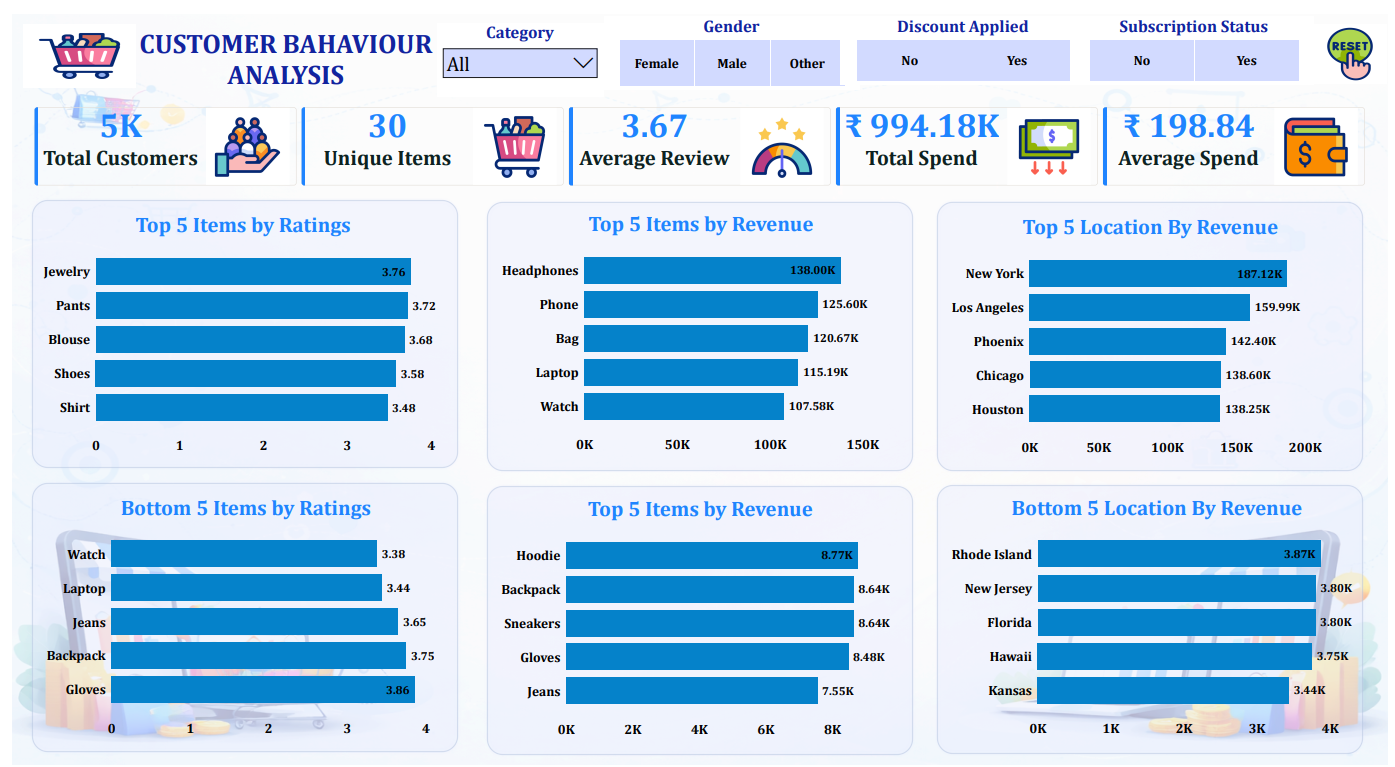

Layout of this report page (visuals, bound fields, positions):
{"tool":"powerbi","page":{"name":"Best-Worst","canvas":[2200,1200],"ordinal":1},"visuals":[{"type":"cardVisual","fields":{"Data":["customer_behaviour_analysis.Total Customers","customer_behaviour_analysis.Unique Items","customer_behaviour_analysis.Average Review","customer_behaviour_analysis.Total Spend","customer_behaviour_analysis.Average Spend"]},"box":[18.5,131.9,2161.3,158.6],"z":0},{"type":"shape","box":[28.8,292.6,688.1,436.8],"z":1000},{"type":"shape","box":[28.8,745.8,688.1,436.8],"z":2000},{"type":"shape","box":[756.1,296.7,688.1,436.8],"z":3000},{"type":"shape","box":[756.1,750,688.1,436.8],"z":4000},{"type":"shape","box":[1476.1,296,688.1,436.8],"z":5000},{"type":"shape","box":[1476.1,749.2,688.1,436.8],"z":6000},{"type":"clusteredBarChart","title":"Top 5 Items  by Ratings","fields":{"Category":["customer_behaviour_analysis.item_purchased"],"Y":["Avg(customer_behaviour_analysis.review_rating)"]},"box":[45.3,317.3,649,393.5],"z":7000},{"type":"clusteredBarChart","title":"Bottom 5 Items  by Ratings","fields":{"Category":["customer_behaviour_analysis.item_purchased"],"Y":["Avg(customer_behaviour_analysis.review_rating)"]},"box":[48.9,768.3,650.1,393.3],"z":8000},{"type":"clusteredBarChart","title":"Top 5 Items  by Revenue","fields":{"Category":["customer_behaviour_analysis.item_purchased"],"Y":["Sum(customer_behaviour_analysis.purchase_amount)"]},"box":[776.7,315.2,649,393.5],"z":9000},{"type":"clusteredBarChart","title":"Top 5 Items  by Revenue","fields":{"Category":["customer_behaviour_analysis.item_purchased"],"Y":["Sum(customer_behaviour_analysis.purchase_amount)"]},"box":[776.5,770.4,648.1,393.3],"z":10000},{"type":"clusteredBarChart","title":"Top 5 Location By Revenue","fields":{"Category":["customer_behaviour_analysis.location"],"Y":["Sum(customer_behaviour_analysis.purchase_amount)"]},"box":[1495.7,319.8,647.9,393.4],"z":11000},{"type":"clusteredBarChart","title":"Bottom 5 Location By Revenue","fields":{"Category":["customer_behaviour_analysis.location"],"Y":["Sum(customer_behaviour_analysis.purchase_amount)"]},"box":[1495.7,767.8,669,395.5],"z":12000},{"type":"textbox","box":[197.8,16.5,480.1,115.4],"z":13000},{"type":"actionButton","box":[18.5,16.5,179.2,101],"z":14000},{"type":"slicer","title":"Category","fields":{"Values":["customer_behaviour_analysis.category"]},"box":[678.7,14.3,267,118.2],"z":15000},{"type":"slicer","title":"Gender","fields":{"Values":["customer_behaviour_analysis.gender"]},"box":[945.7,4.1,409.6,118.2],"z":16000},{"type":"slicer","title":"Discount Applied","fields":{"Values":["customer_behaviour_analysis.discount_applied"]},"box":[1324.7,4.1,391.3,110.1],"z":17000},{"type":"slicer","title":"Subscription Status","fields":{"Values":["customer_behaviour_analysis.subscription_status"]},"box":[1697.7,4.1,383.2,110.1],"z":18000},{"type":"actionButton","box":[2080.9,16.5,117.4,94.8],"z":19000}]}

Visuals, with their boxes in screenshot pixels (x1, y1, x2, y2), scaled from the page's 2200x1200 canvas onto the 1395x767 screenshot:
cardVisual - customer_behaviour_analysis.Total Customers x customer_behaviour_analysis.Unique Items: {"x1": 12, "y1": 84, "x2": 1382, "y2": 186}
shape: {"x1": 18, "y1": 187, "x2": 455, "y2": 466}
shape: {"x1": 18, "y1": 477, "x2": 455, "y2": 756}
shape: {"x1": 479, "y1": 190, "x2": 916, "y2": 469}
shape: {"x1": 479, "y1": 479, "x2": 916, "y2": 759}
shape: {"x1": 936, "y1": 189, "x2": 1372, "y2": 468}
shape: {"x1": 936, "y1": 479, "x2": 1372, "y2": 758}
"Top 5 Items  by Ratings" clusteredBarChart: {"x1": 29, "y1": 203, "x2": 440, "y2": 454}
"Bottom 5 Items  by Ratings" clusteredBarChart: {"x1": 31, "y1": 491, "x2": 443, "y2": 742}
"Top 5 Items  by Revenue" clusteredBarChart: {"x1": 492, "y1": 201, "x2": 904, "y2": 453}
"Top 5 Items  by Revenue" clusteredBarChart: {"x1": 492, "y1": 492, "x2": 903, "y2": 744}
"Top 5 Location By Revenue" clusteredBarChart: {"x1": 948, "y1": 204, "x2": 1359, "y2": 456}
"Bottom 5 Location By Revenue" clusteredBarChart: {"x1": 948, "y1": 491, "x2": 1373, "y2": 744}
textbox: {"x1": 125, "y1": 11, "x2": 430, "y2": 84}
actionButton: {"x1": 12, "y1": 11, "x2": 125, "y2": 75}
"Category" slicer: {"x1": 430, "y1": 9, "x2": 600, "y2": 85}
"Gender" slicer: {"x1": 600, "y1": 3, "x2": 859, "y2": 78}
"Discount Applied" slicer: {"x1": 840, "y1": 3, "x2": 1088, "y2": 73}
"Subscription Status" slicer: {"x1": 1076, "y1": 3, "x2": 1319, "y2": 73}
actionButton: {"x1": 1319, "y1": 11, "x2": 1394, "y2": 71}
